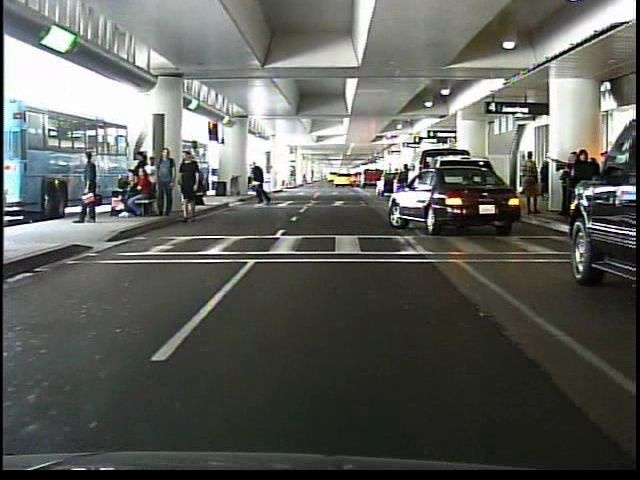person: (74, 145, 106, 233), (522, 150, 541, 215), (253, 160, 278, 206)
